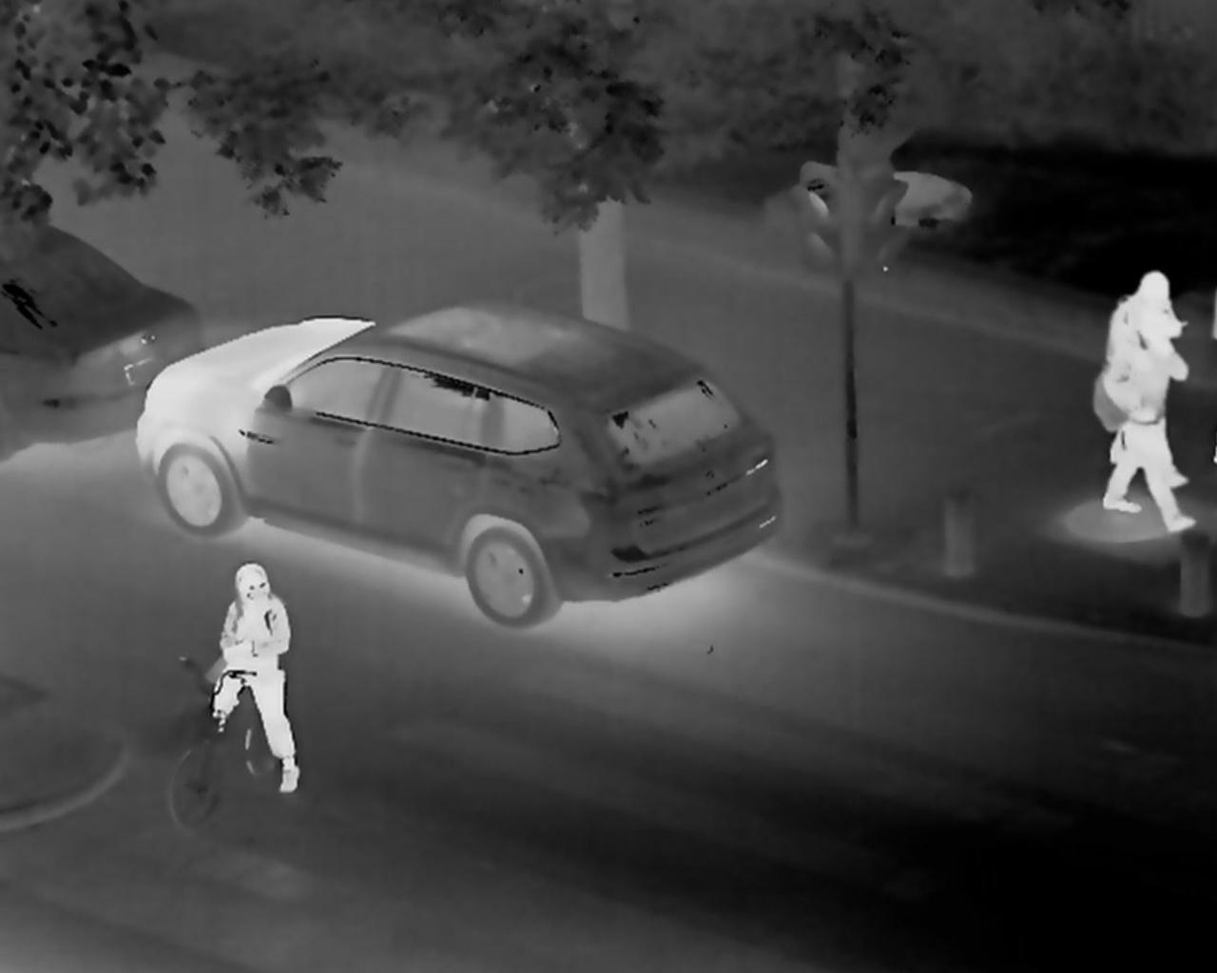person: (204, 558, 305, 792), (1097, 300, 1193, 533), (1105, 268, 1194, 490)
